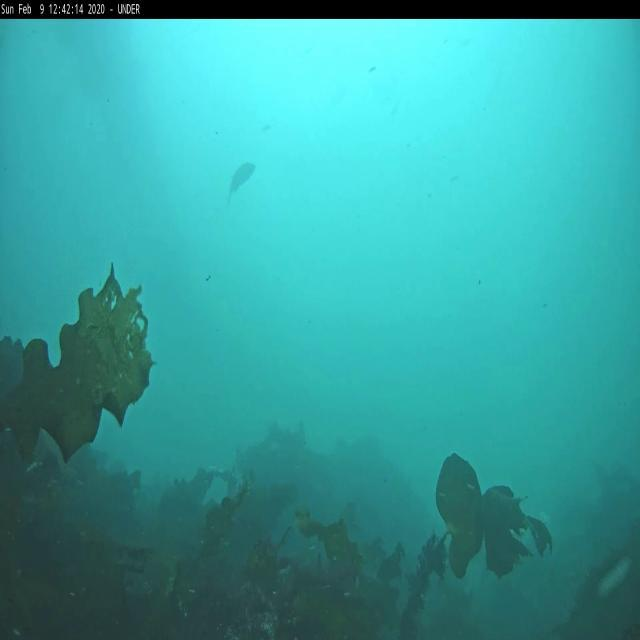fish: (226, 161, 256, 205)
